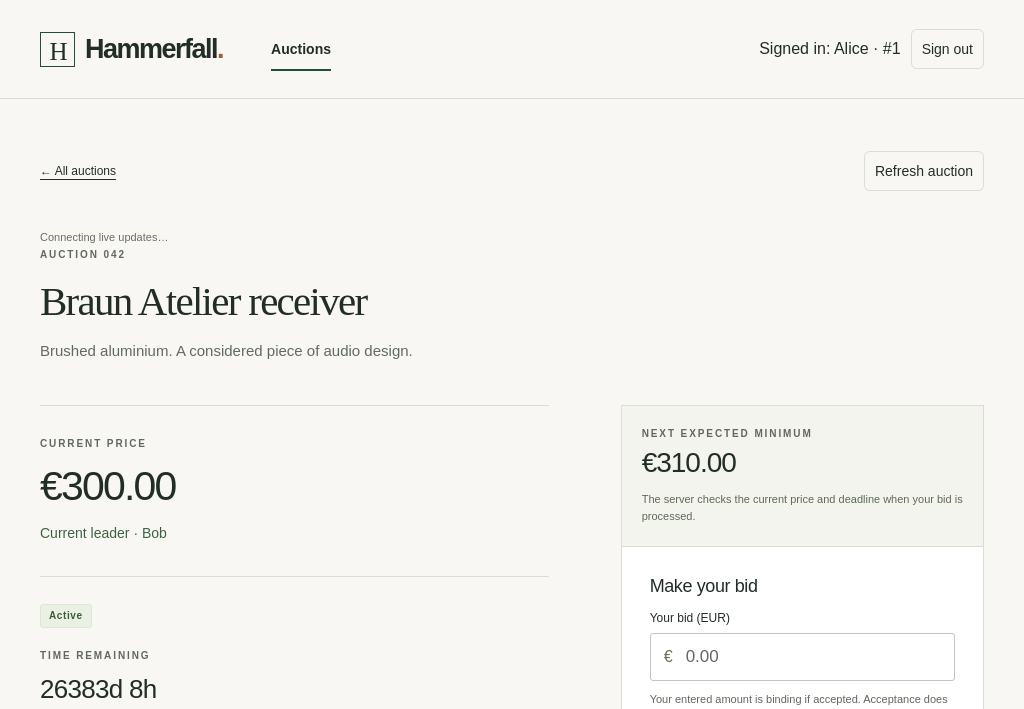
Test case: shows stale rejection details and refreshes without optimistic price or leadership
expect the heading "Braun Atelier receiver" is shown: met, box x1=40 y1=278 x2=366 y2=324
expect the text "Signed in: Alice · #1" is shown: met, box x1=759 y1=37 x2=901 y2=61
Step 1. Type "310" into the field labelled "Your bid (EUR)" → [802, 657], box x1=650 y1=633 x2=955 y2=681
(page scrolled)
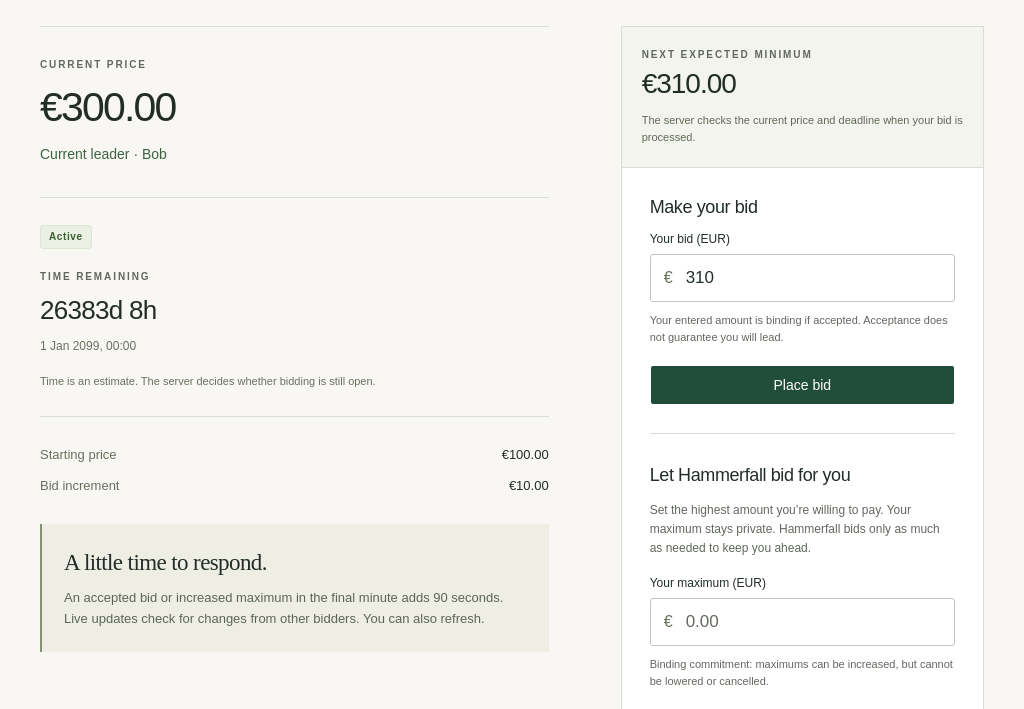
Step 2. Click the button "Place bid" → [802, 385], box x1=650 y1=365 x2=955 y2=405
(page scrolled)
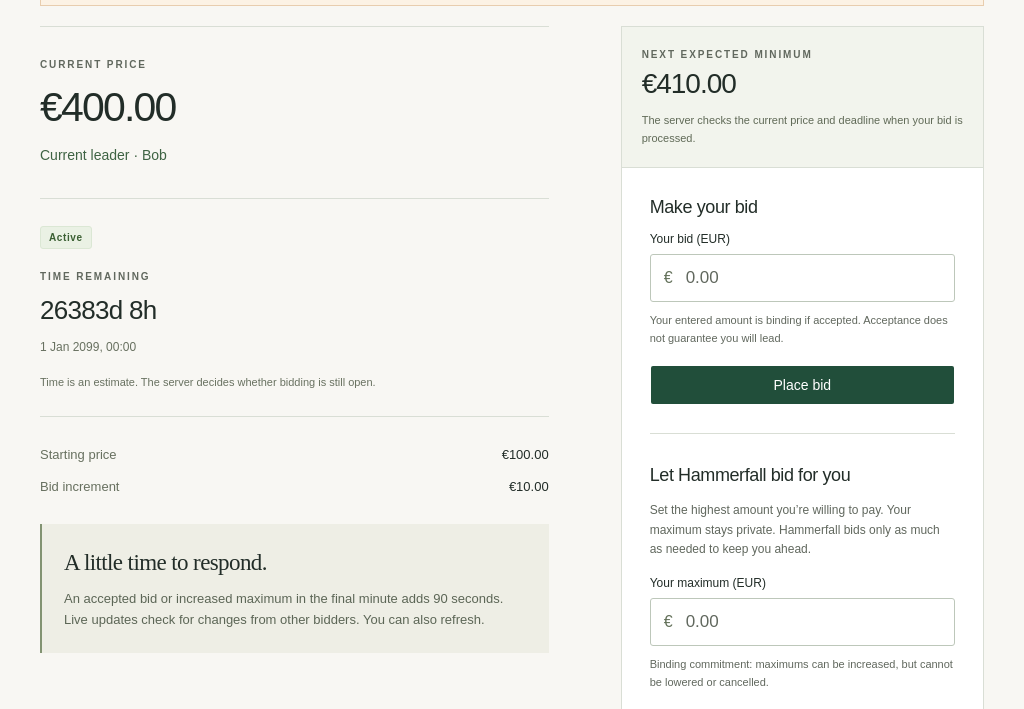
expect the text "Current leader · Bob" is shown: met, box x1=40 y1=146 x2=167 y2=162
expect the text "€400.00" is shown: met, box x1=40 y1=84 x2=175 y2=130
